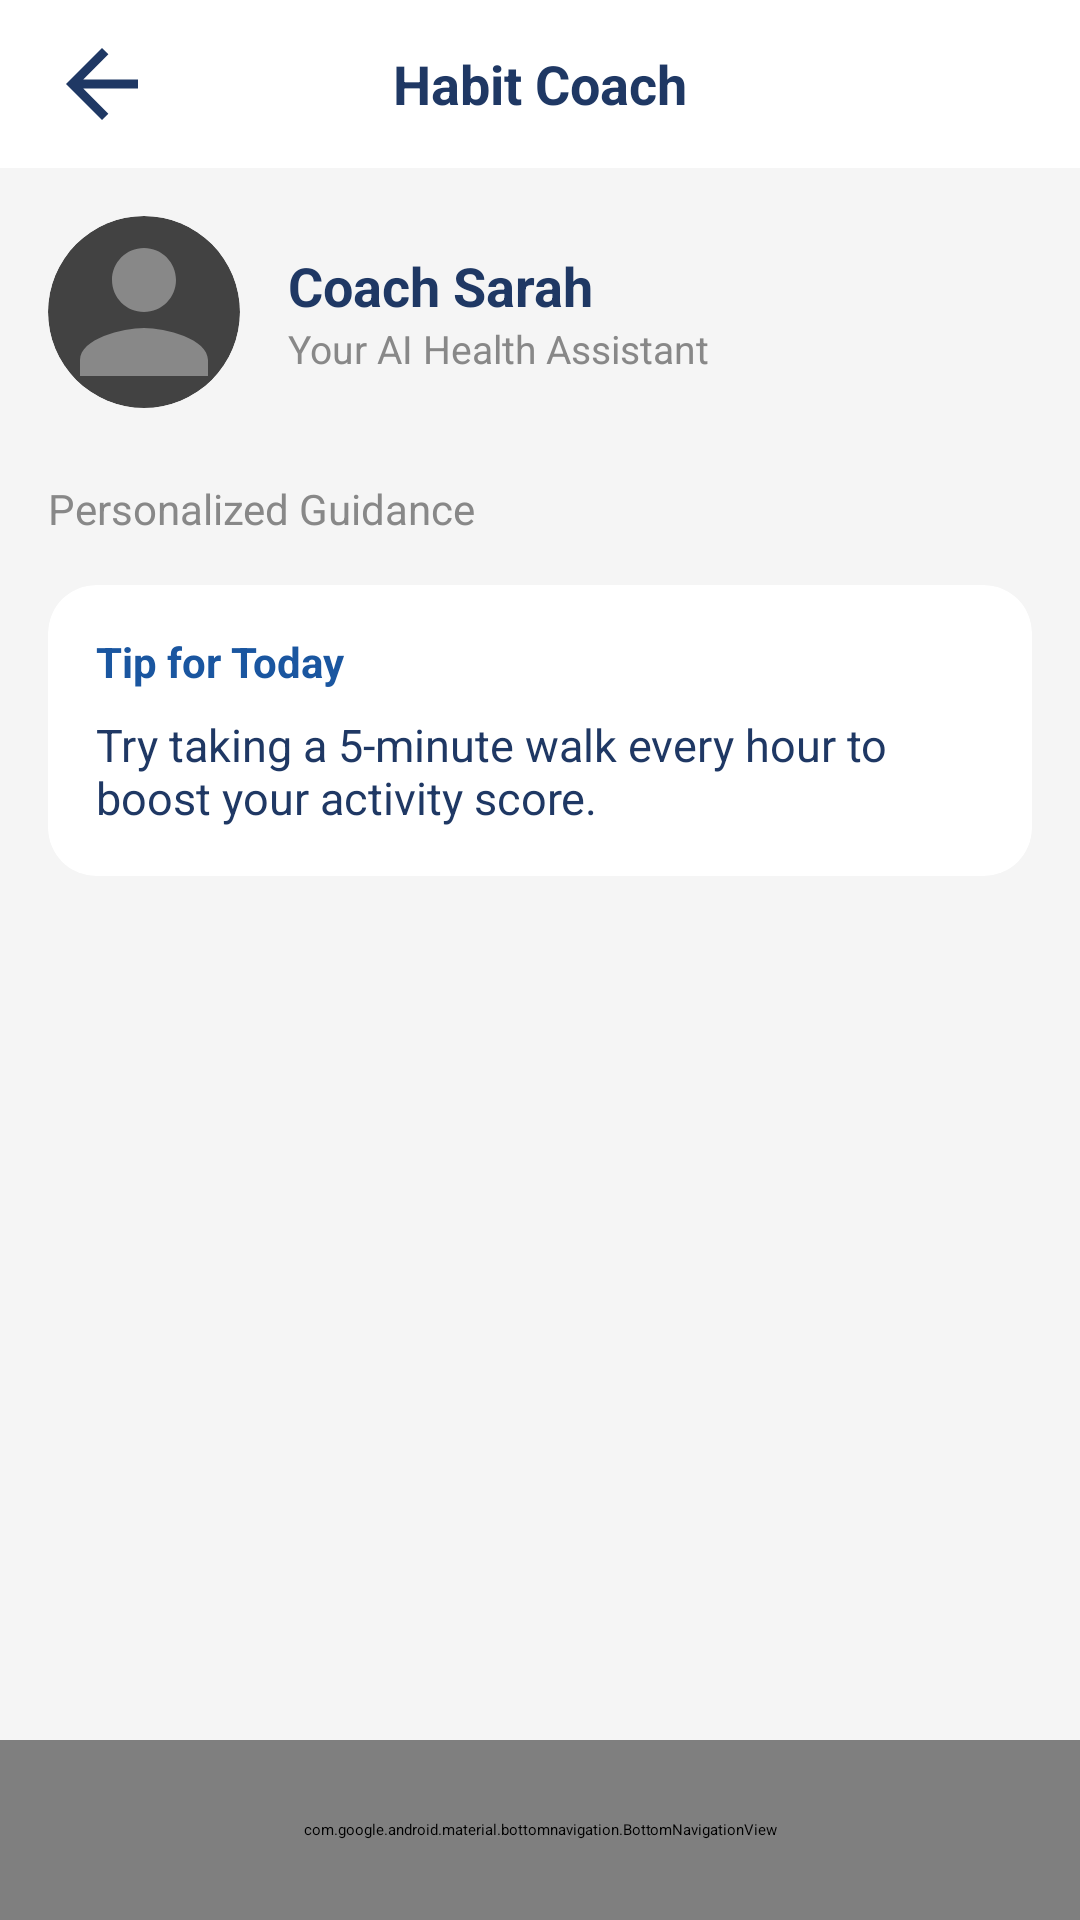

Locate icon controls on the screen. Image size 1080w x 1920h, boxes as Rect(x1, y1, x2, y2).
back arrow: Rect(66, 48, 138, 120)
